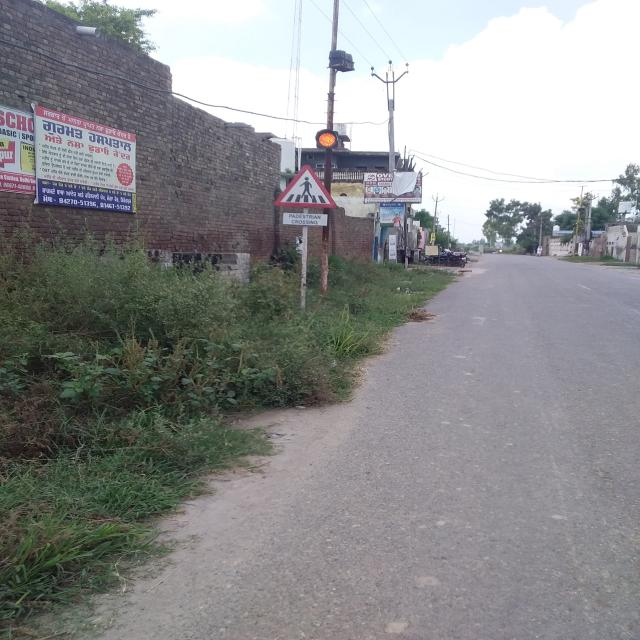PEDESTRIAN_CROSSING: (274, 164, 337, 209)
